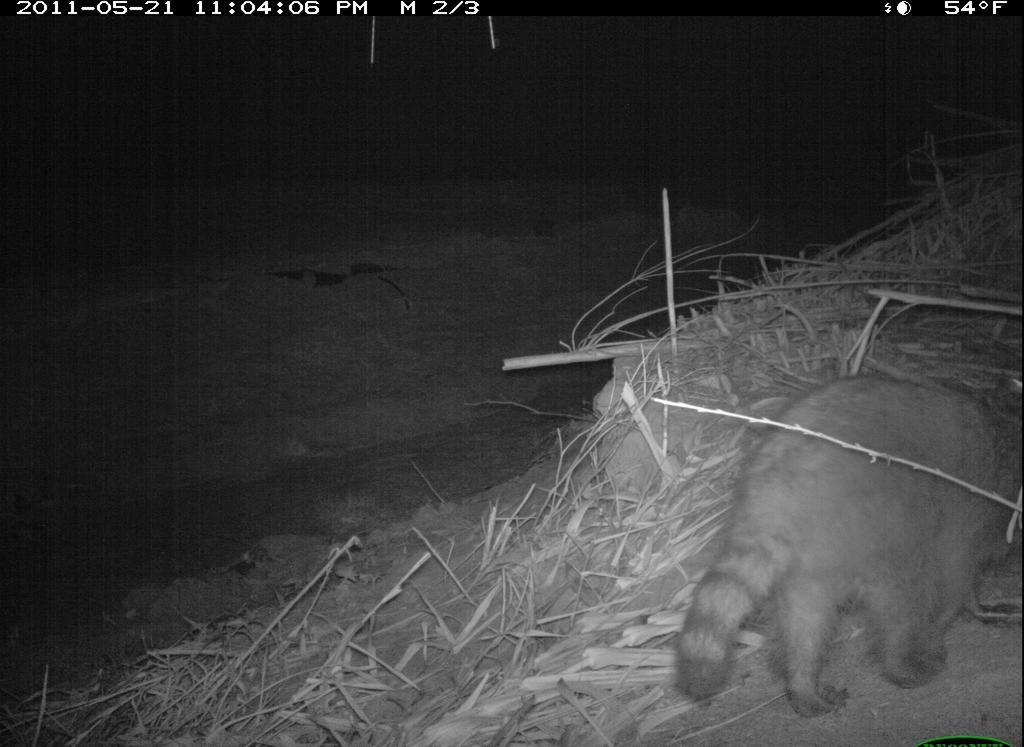raccoon: (674, 372, 1023, 720)
